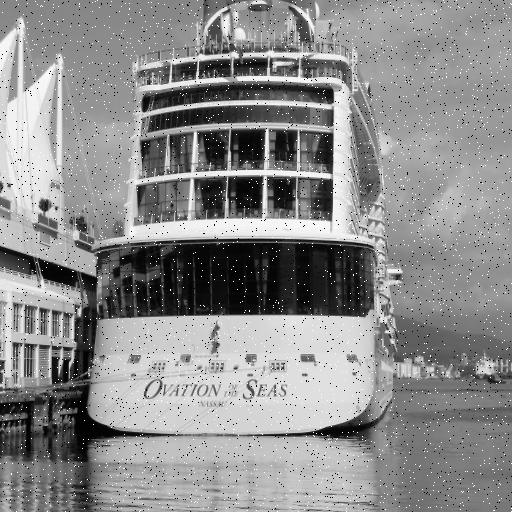cruises: (87, 1, 407, 444)
